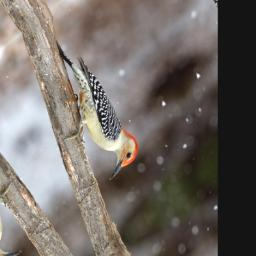Woodpecker: (26, 25, 143, 197)
